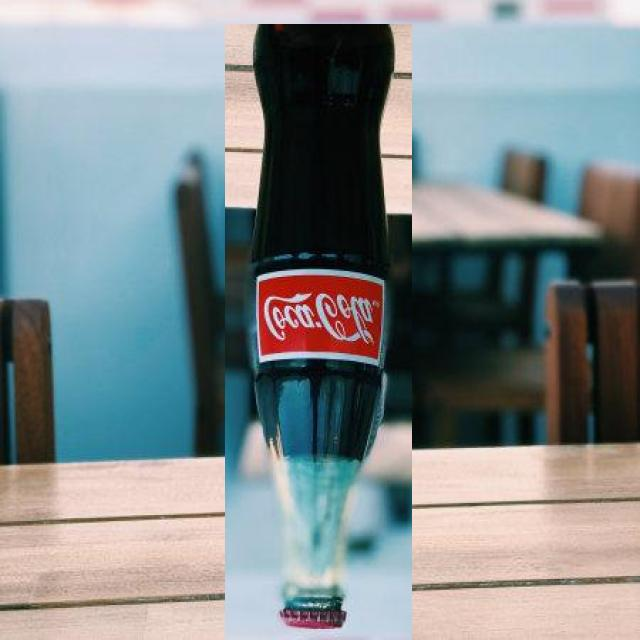coca-cola: (225, 24, 412, 640)
